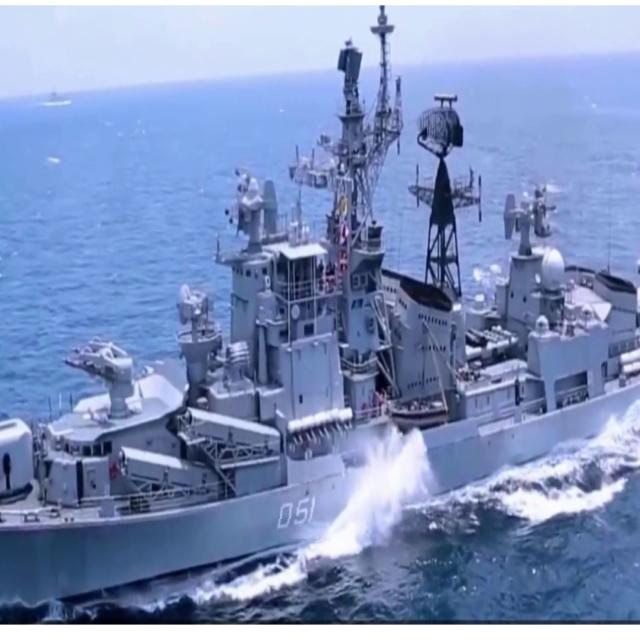OCR: (272, 488, 323, 539)
